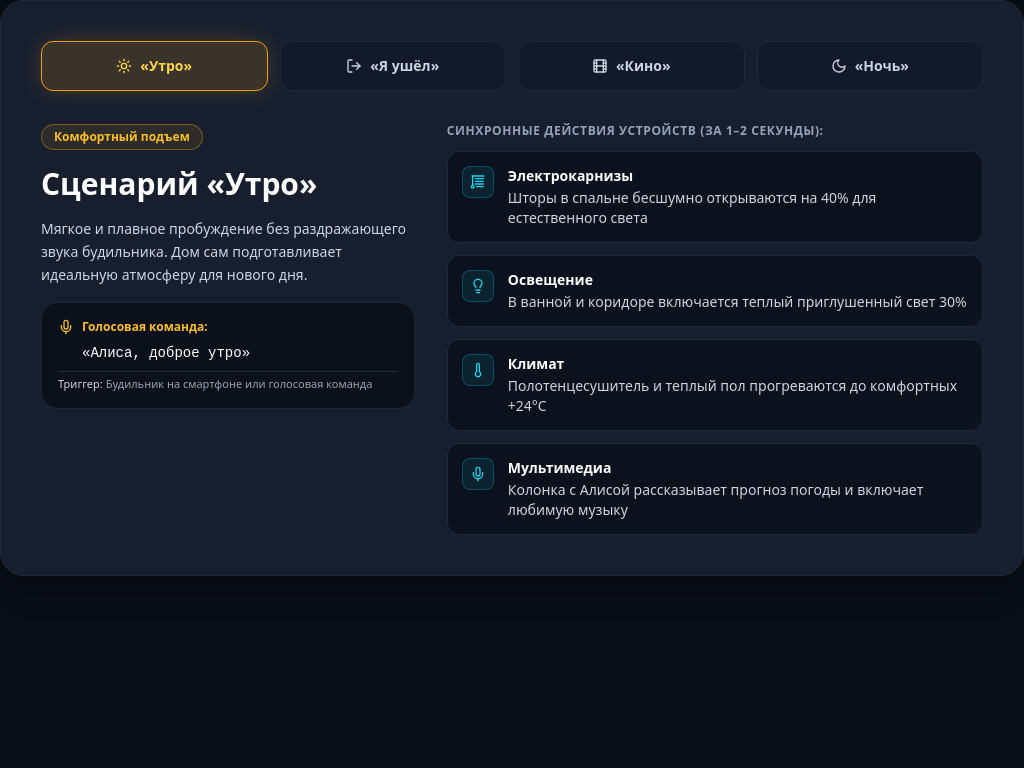
Test: ScenarioSwitcher Component › switches to "Кино" scenario
Click the button "«Кино»" at (631, 66), box left=518, top=41, right=744, bottom=91
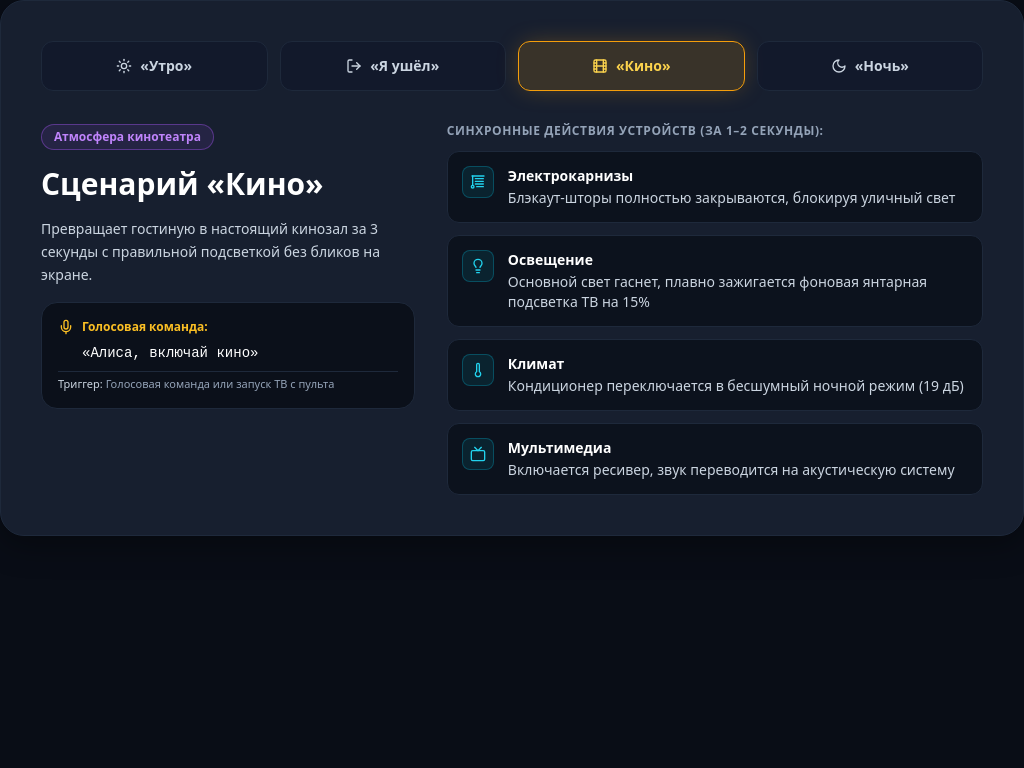
Now the heading "Сценарий «Кино»" is shown, box left=41, top=163, right=324, bottom=204
Now the text "«Алиса, включай кино»" is shown, box left=82, top=345, right=258, bottom=361
Now the text "Блэкаут-шторы полностью закрываются, блокируя уличный свет" is shown, box left=508, top=188, right=956, bottom=207
